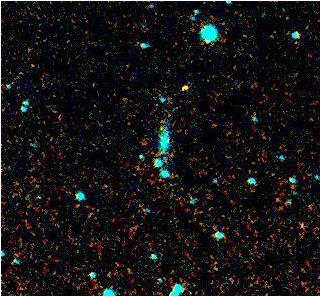star: (168, 71, 198, 101)
